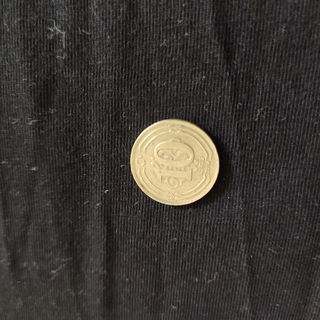10KURUS: (127, 116, 221, 207)
